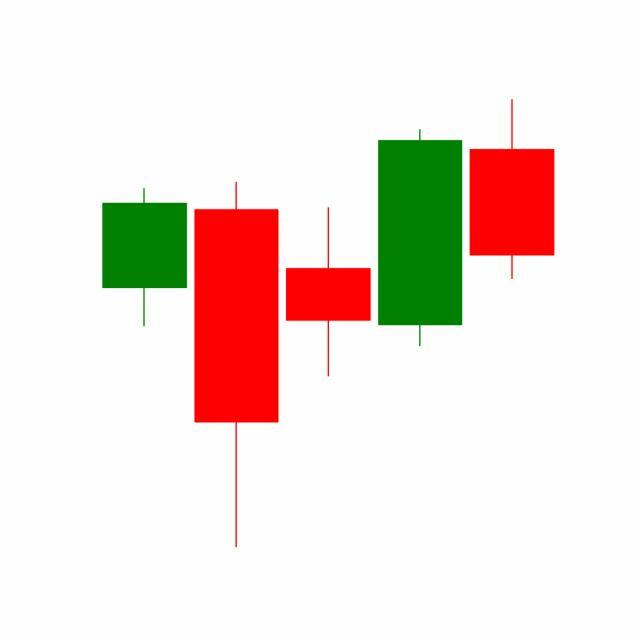Three Inside Up-Down: (190, 125, 467, 549)
